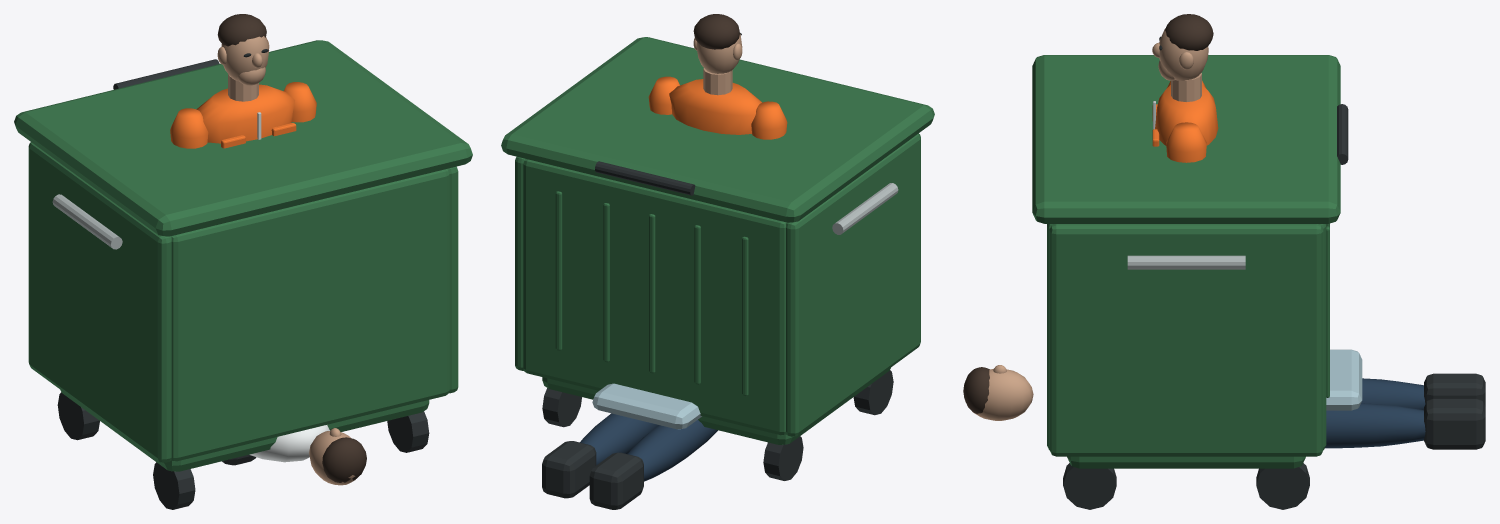
Rendered from service_props.glb.
3 views of the same model, side by side, from view 1: azimuth 30°, elevation 25°; view 2: azimuth 150°, elevation 25°; view 3: azimuth 270°, elevation 25° (orthographic). The views are drawn at different scales.
Parts seen in each view (by area): view 1: BinEnd, BinLidPanel, BinSide, Collector_Shirt, BinBottom, BinSide.001, PatientHair, BinWheel, PatientTorso, BinWheel.002, Collector_Face, Collector_SleeveL (+7 smaller); view 2: BinEnd.001, BinLidPanel, BinSide, Collector_Shirt, PatientBlanket, PatientLeg, PatientShoe, PatientShoe.001, PatientLeg.001, BinSide.001, BinBottom, BinWheel.001 (+14 smaller); view 3: BinSide.001, BinLidPanel, PatientLeg.001, PatientShoe.001, BinBottom, Collector_Shirt, PatientHead, PatientBlanket, BinWheel.002, BinWheel.003, BinSideHandle.001, PatientLeg (+10 smaller).
Boxes of the visible parts, bbox=[...] form: BinEnd: bbox=[171, 169, 449, 461]; BinLidPanel: bbox=[14, 40, 472, 236]; BinSide: bbox=[28, 142, 171, 462]; Collector_Shirt: bbox=[196, 84, 294, 143]; BinBottom: bbox=[60, 389, 429, 471]; BinSide.001: bbox=[447, 166, 458, 393]; PatientHair: bbox=[322, 437, 366, 482]; BinWheel: bbox=[153, 462, 195, 509]; PatientTorso: bbox=[249, 425, 329, 462]; BinWheel.002: bbox=[387, 411, 429, 452]; Collector_Face: bbox=[221, 36, 269, 81]; Collector_SleeveL: bbox=[170, 108, 208, 148]; BinEnd.001: bbox=[523, 159, 786, 435]; BinLidPanel: bbox=[501, 37, 934, 222]; BinSide: bbox=[786, 133, 920, 436]; Collector_Shirt: bbox=[669, 79, 761, 134]; PatientBlanket: bbox=[592, 383, 701, 429]; PatientLeg: bbox=[627, 420, 717, 481]; PatientShoe: bbox=[589, 452, 643, 509]; PatientShoe.001: bbox=[542, 441, 596, 498]; PatientLeg.001: bbox=[580, 413, 658, 465]; BinSide.001: bbox=[515, 156, 524, 370]; BinBottom: bbox=[542, 368, 890, 444]; BinWheel.001: bbox=[763, 436, 803, 480]; BinSide.001: bbox=[1049, 224, 1323, 456]; BinLidPanel: bbox=[1032, 55, 1340, 223]; PatientLeg.001: bbox=[1325, 403, 1425, 448]; PatientShoe.001: bbox=[1424, 398, 1485, 449]; BinBottom: bbox=[1067, 456, 1305, 468]; Collector_Shirt: bbox=[1155, 85, 1218, 145]; PatientHead: bbox=[965, 368, 1033, 420]; PatientBlanket: bbox=[1326, 349, 1362, 410]; BinWheel.002: bbox=[1063, 463, 1116, 509]; BinWheel.003: bbox=[1256, 463, 1309, 509]; BinSideHandle.001: bbox=[1127, 255, 1245, 269]; PatientLeg: bbox=[1361, 378, 1425, 410].
Size of the model in its own units: 1.41 by 1.77 by 1.95.
